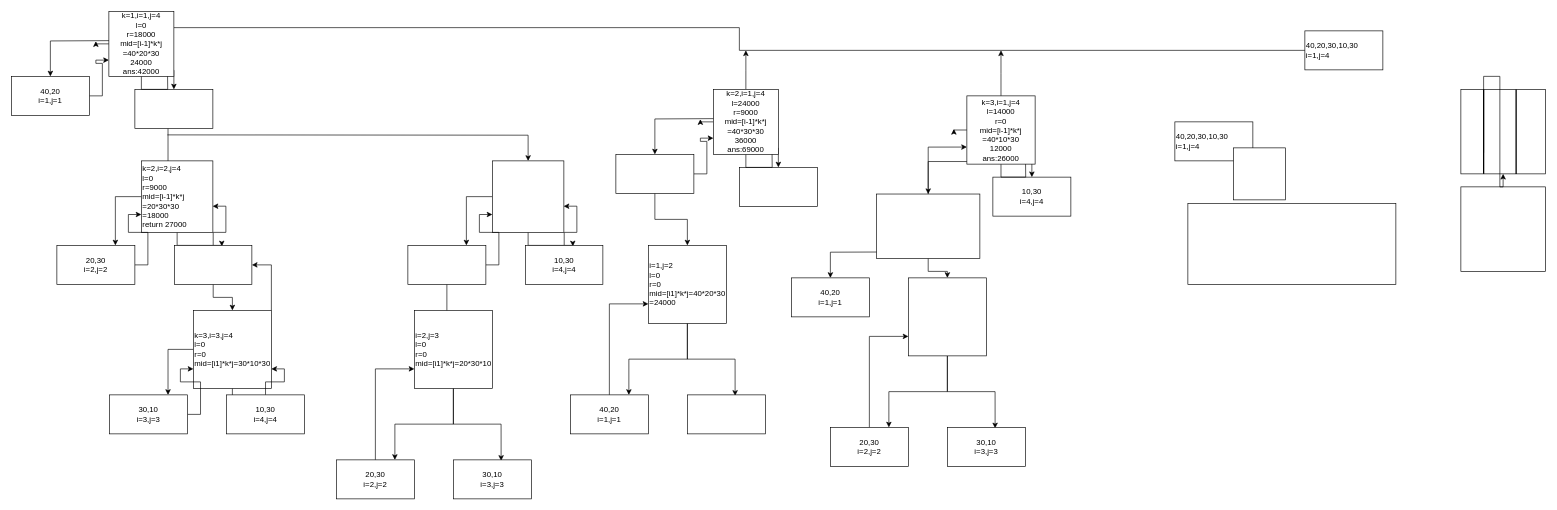
Image size: 1557x510. Some labels were removed from this diagram. The shapes that lost their labels are listed below. From the top down, each one's centre as x and y in pixels, then its label:
At (x=173, y=108): "20,30,10,30 i=2,j=4 ans=18000".
At (x=654, y=173): "40,20,30 i=1,j=2 ans=24000".
At (x=778, y=186): "20,30,10,30 i=3,j=4 ans=9000".
At (x=528, y=196): "k=3,i=2,j=4 l=6000 r=0 mid=[i-1]*k*j =20*10*30 =6000 return 18000".
At (x=928, y=225): "40,20,30 i=1,j=3 l=0 r=6000 mid=40*20*10 =8000 ANS=14000".
At (x=1291, y=243): "A=40*20 B=20*30 C=30*10 D=10*30 (A*(B*C))*D".
At (x=213, y=264): "30,10,30 i=3,j=4 ans=9000".
At (x=446, y=264): "20,30,10 i=2,j=3 ans=6000".
At (x=947, y=316): "i=2,j=3 l=0 r=0 mid=[i1]*k*j=20*30*10 =6000".
At (x=726, y=414): "20,30 i=3,j=3".
